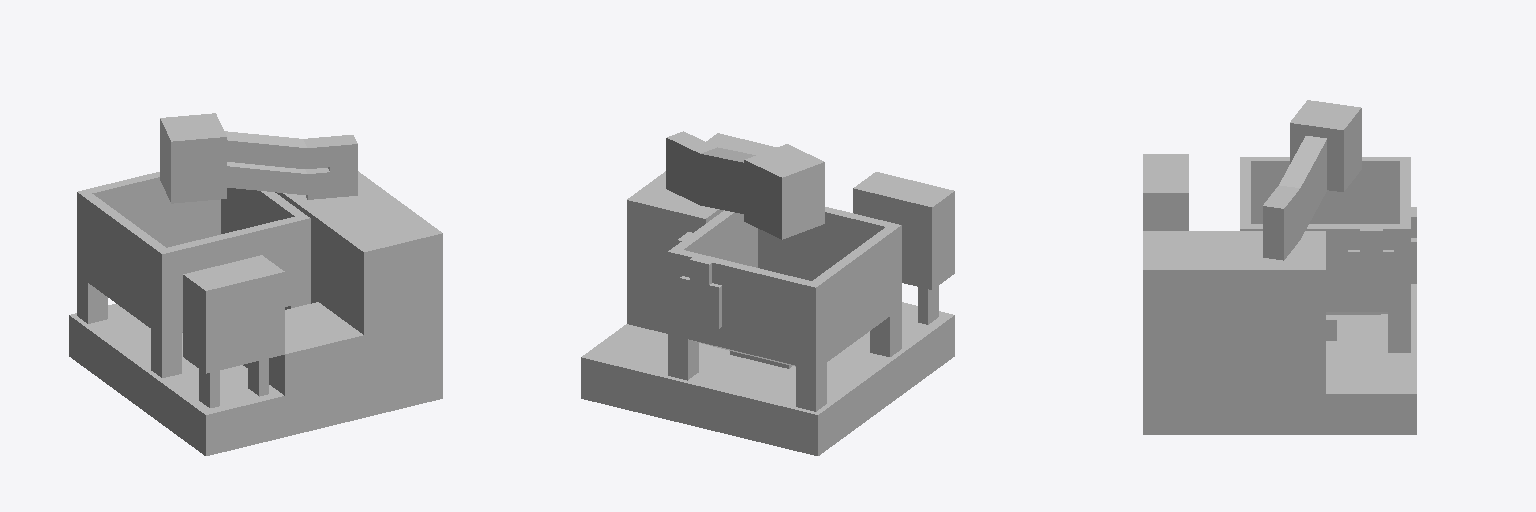
Rendered from mixer_mirrored.obj.
The picture shows the model from 3 angles: view 1: azimuth 30°, elevation 25°; view 2: azimuth 150°, elevation 25°; view 3: azimuth 270°, elevation 25°; orthographic projection.
Parts seen in each view (by area): view 1: base; view 2: base; view 3: base.
Part boxes in pixels (x1,y1,x2,y2): base: (69,113,442,455); base: (581,131,954,455); base: (1143,100,1416,434).
Bounding box in the file's own units: 3 × 2.94 × 3.